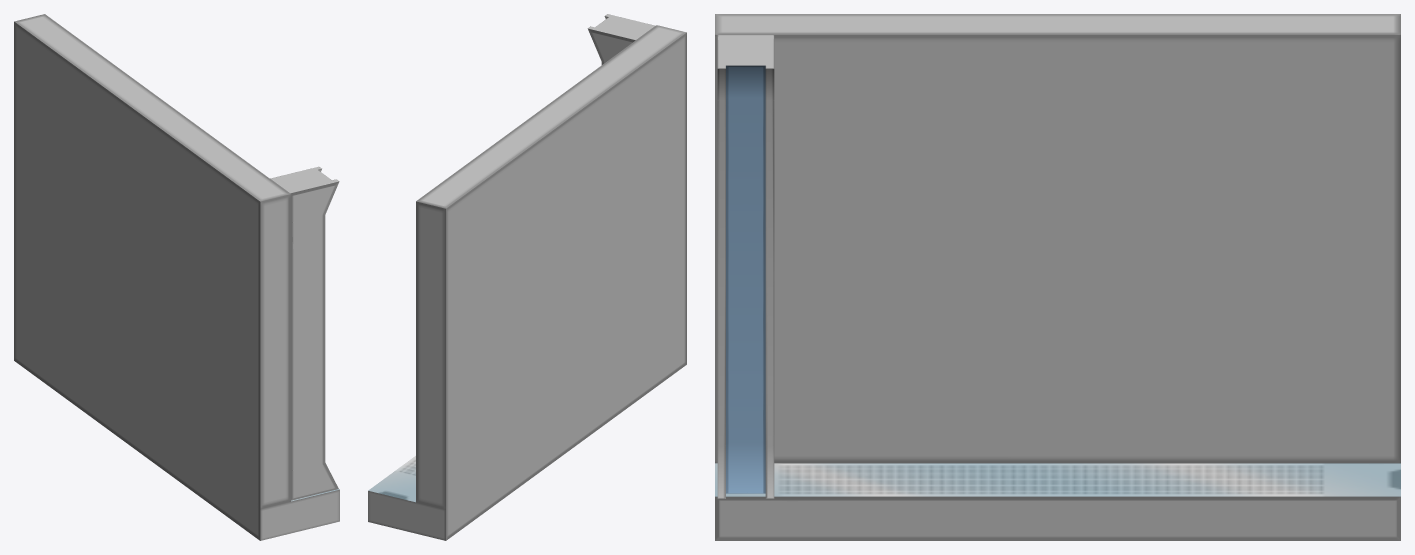
Rendered from Stage_FrozenWall.fbx.
3 renders of one model, left to right at view 1: azimuth 30°, elevation 25°; view 2: azimuth 150°, elevation 25°; view 3: azimuth 270°, elevation 25°, orthographic. The views are drawn at different scales.
Parts seen in each view (by area): view 1: pPlane7; view 2: pPlane7; view 3: pPlane7.
Boxes of the visible parts, x1,y1,x2,y2 form: pPlane7: (14,14,339,540); pPlane7: (368,14,686,540); pPlane7: (715,14,1400,540).
Size of the model in its own units: 4.38 by 17.71 by 23.28.
